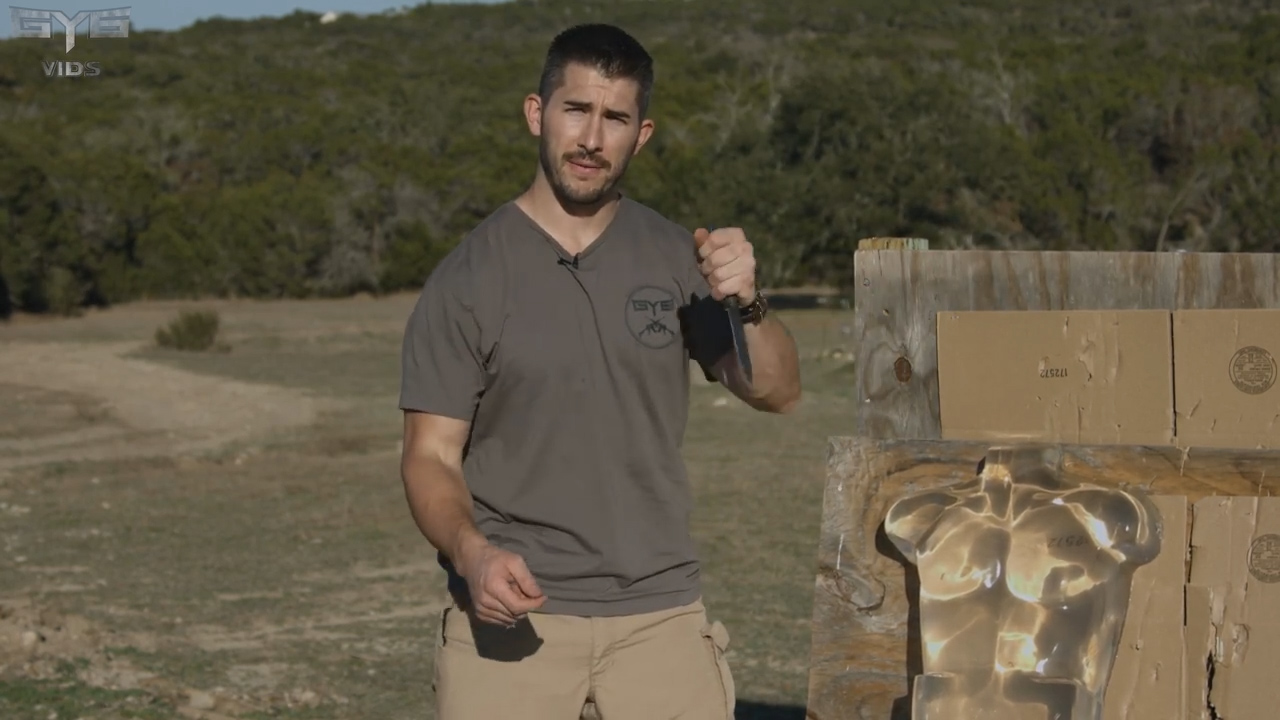knife: (684, 225, 767, 395)
